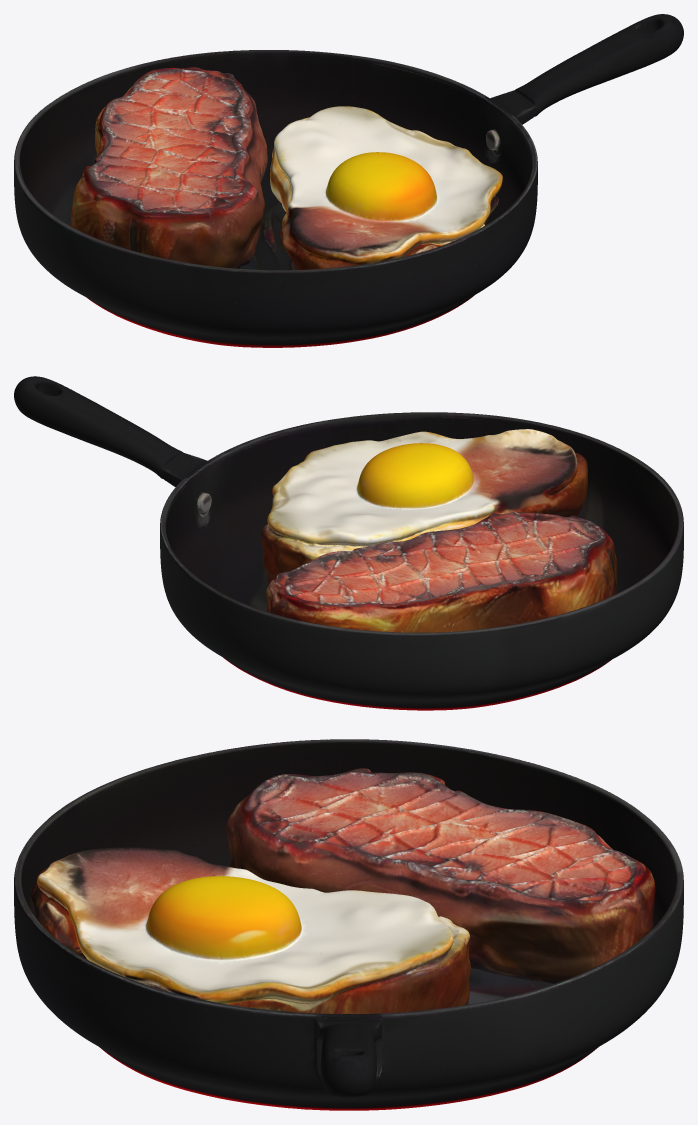
Rendered from Figideira.glb.
3 renders of one model, top to bottom at view 1: azimuth 30°, elevation 25°; view 2: azimuth 150°, elevation 25°; view 3: azimuth 270°, elevation 25°, orthographic. The views are drawn at different scales.
Parts seen in each view (by area): view 1: Mesh_0.001; view 2: Mesh_0.001; view 3: Mesh_0.001.
Part boxes in pixels (x1,y1,x2,y2): Mesh_0.001: [14, 14, 683, 347]; Mesh_0.001: [14, 376, 683, 710]; Mesh_0.001: [14, 739, 683, 1110].
Bounding box in the file's own units: 1.9 × 0.4163 × 1.39.
1 material, 1 textured.
